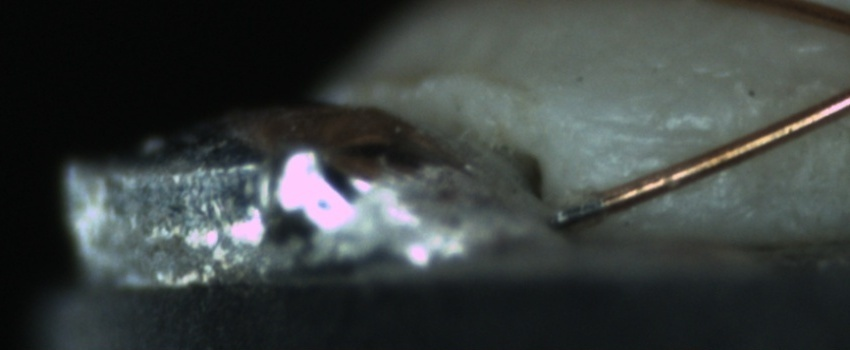DL: (592, 99, 734, 163)
TS: (549, 196, 605, 226)
